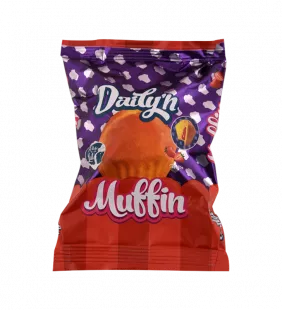DAILY'N: (44, 29, 236, 276)
